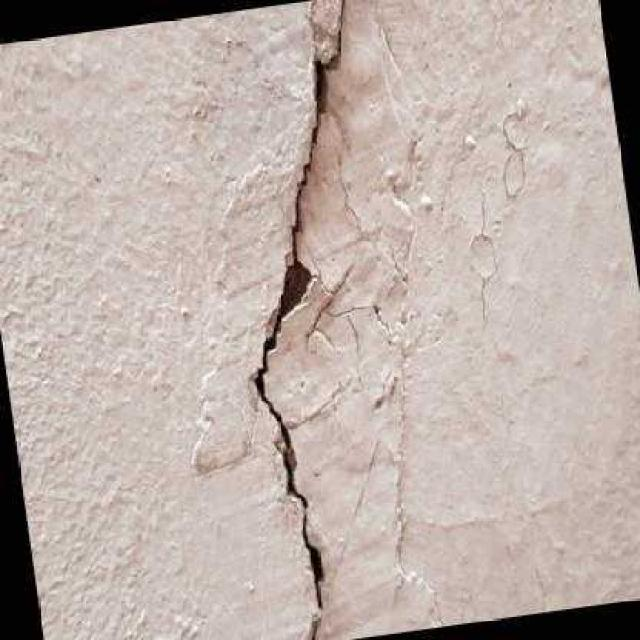D00: (252, 0, 342, 640)
